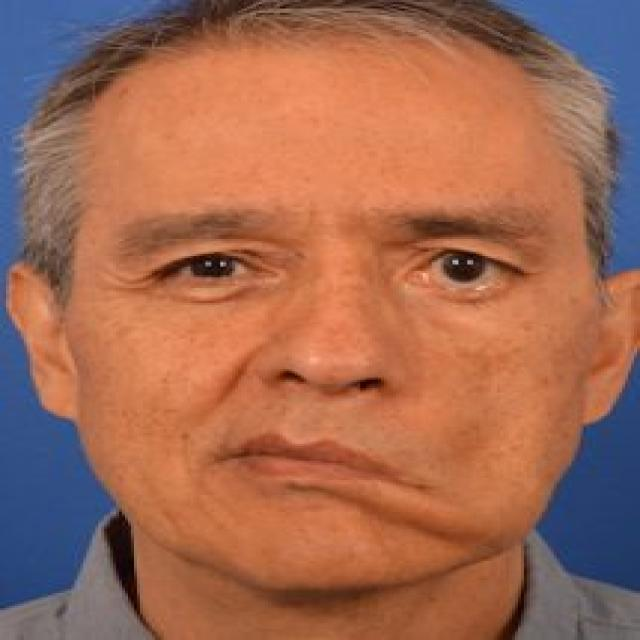stroke_face: (97, 71, 545, 554)
